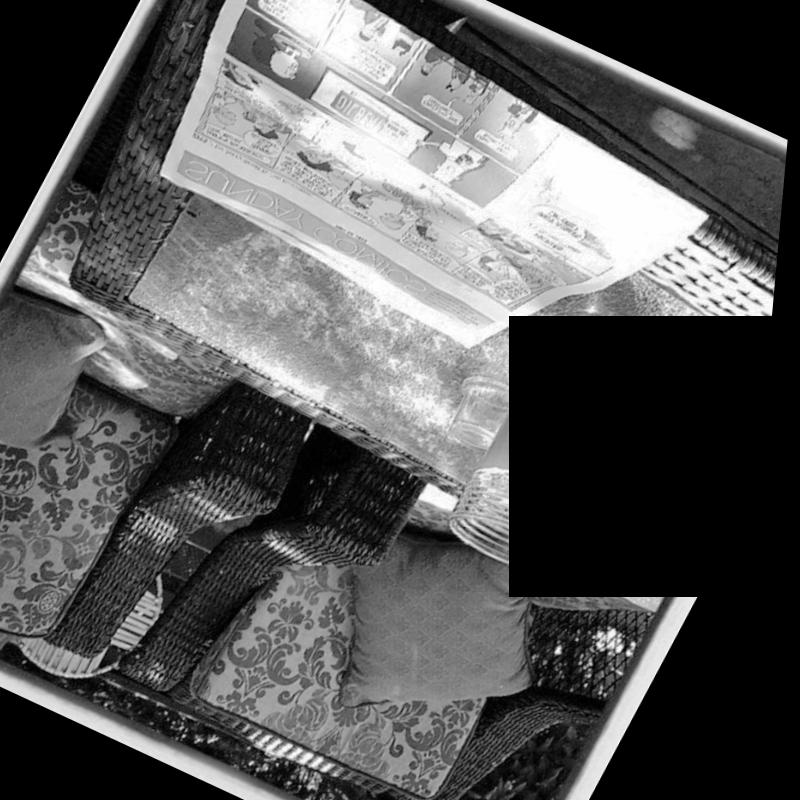pillow: (288, 501, 593, 773), (0, 278, 146, 477)
